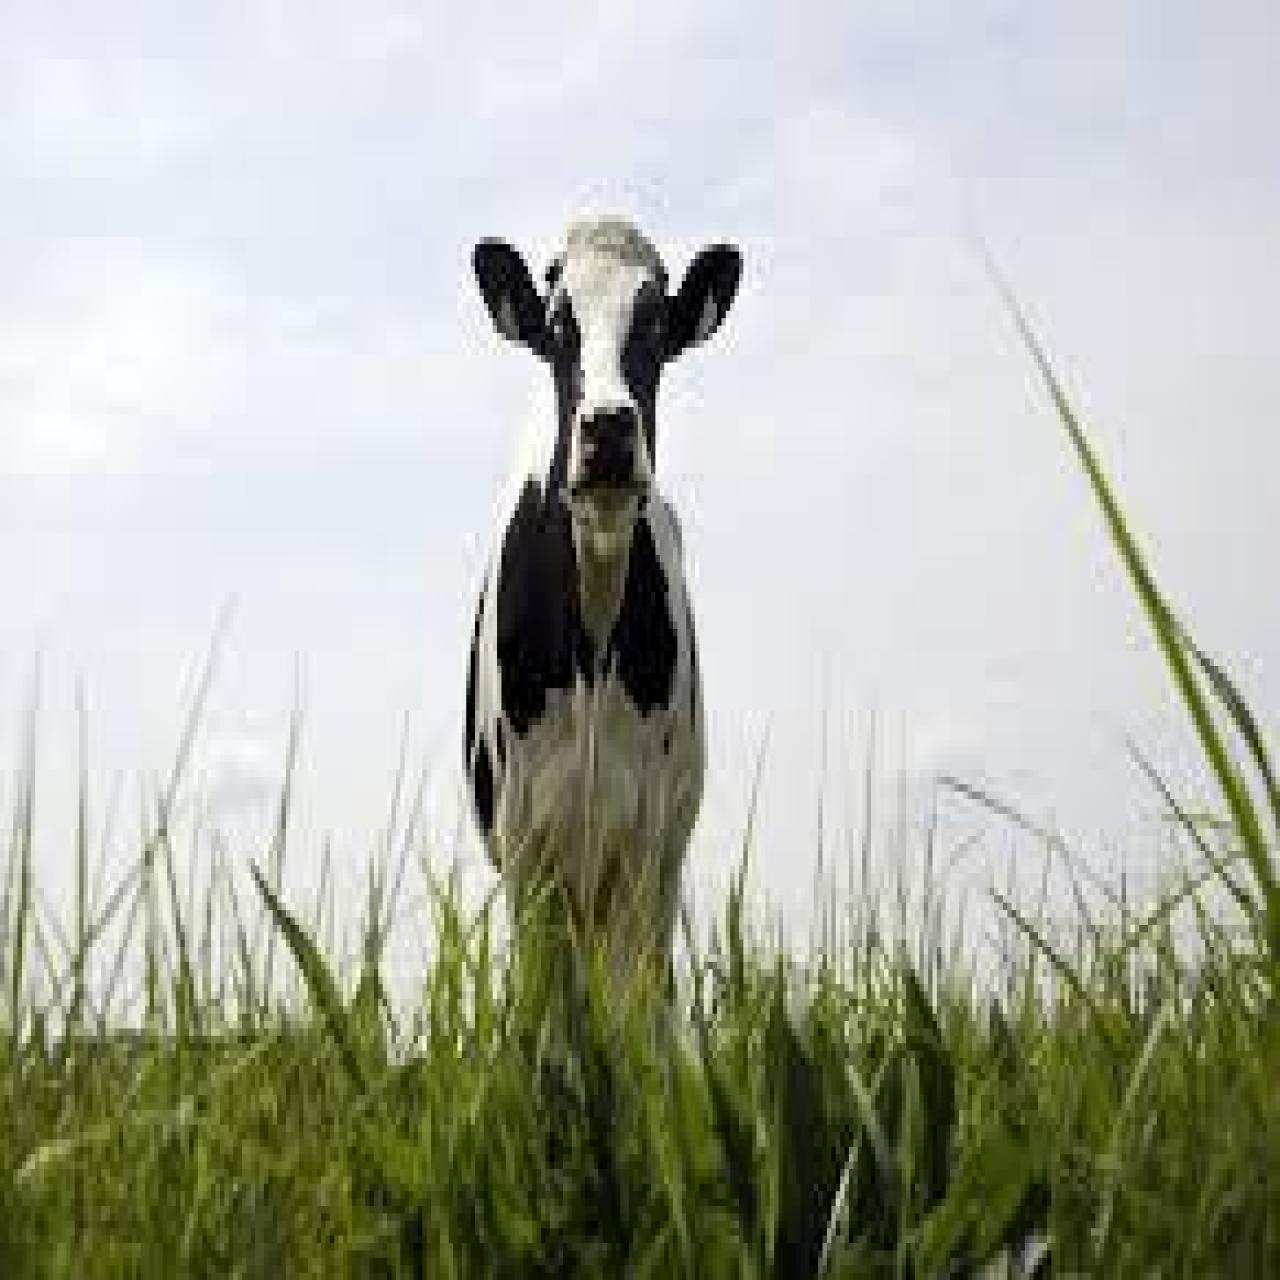cow: (467, 230, 743, 1057)
